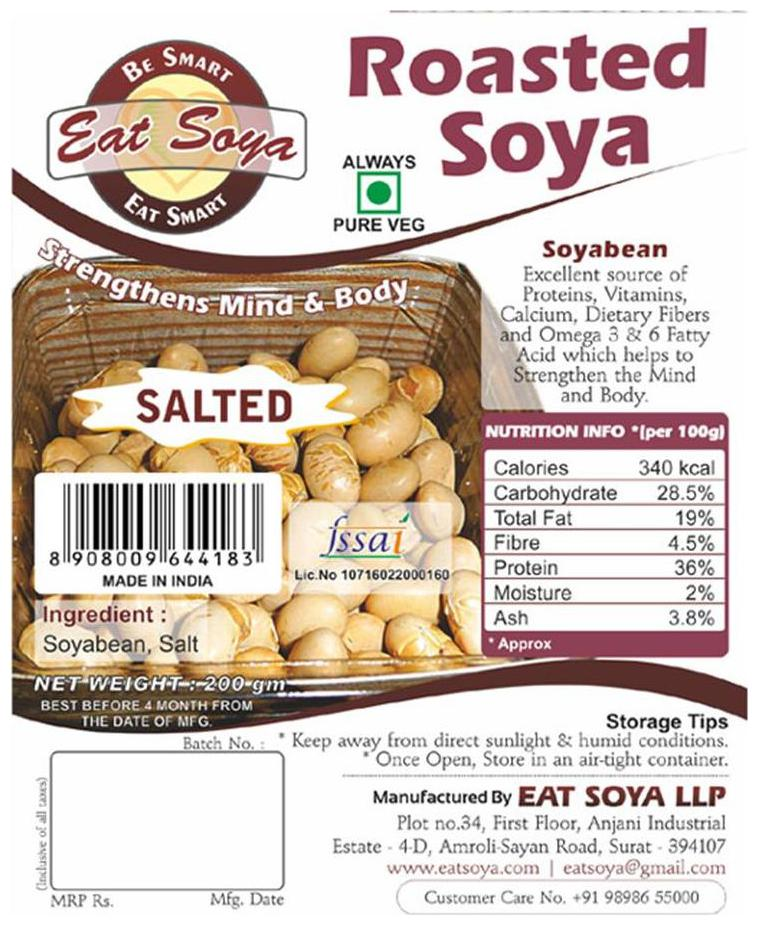fssai: (319, 511, 411, 561)
